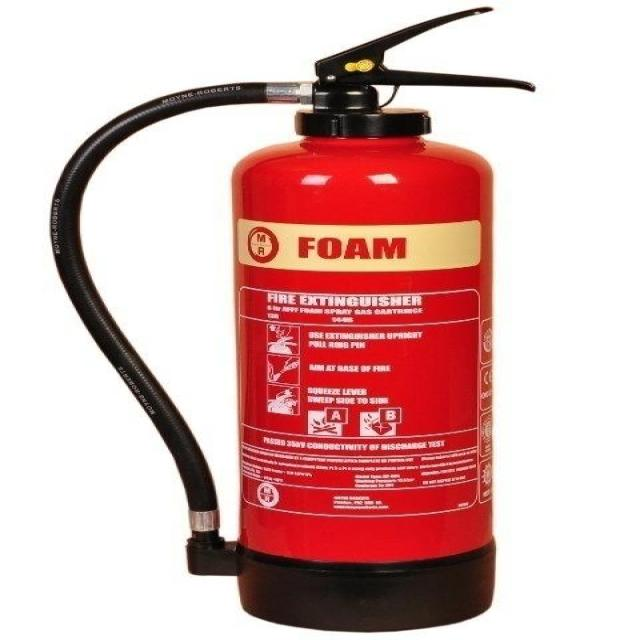fire_extinguisher: (36, 2, 544, 639)
